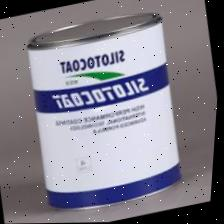metal: (7, 0, 201, 223)
